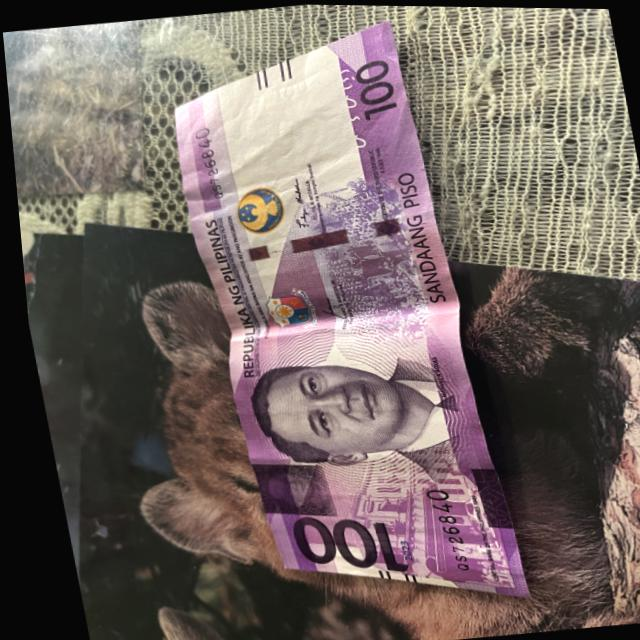concealed_value: (239, 456, 320, 524)
security_thread: (193, 208, 413, 270)
see_through_mark: (316, 54, 371, 158)
serial_number: (409, 481, 467, 578), (181, 120, 228, 215)
value: (278, 504, 393, 580)
value_watermark: (266, 74, 318, 105)
watermark: (210, 72, 360, 209)
